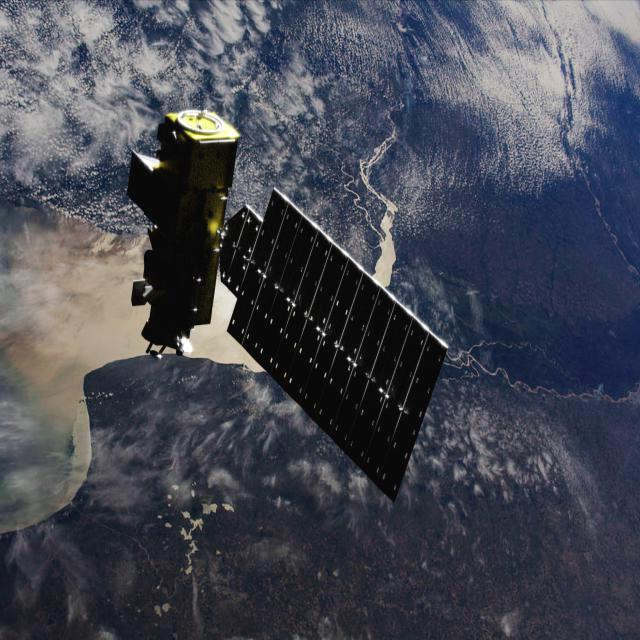satellite: (100, 102, 447, 505)
